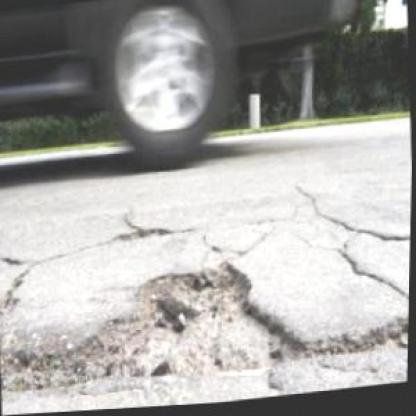pothole: (63, 248, 314, 398)
